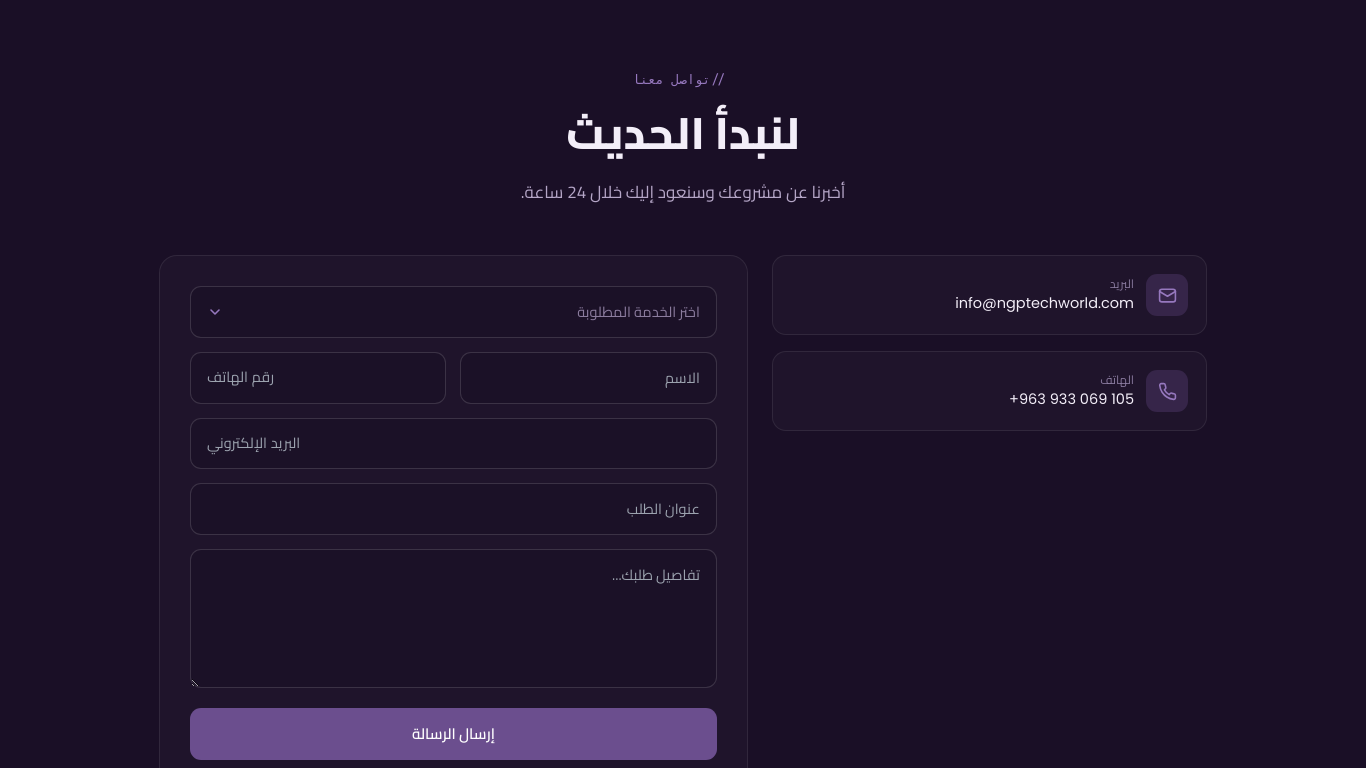
Test: sending the form › explains a validation error (422 with no field detail) and keeps what was typed
Click the button "اختر الخدمة المطلوبة" at (638, 312), box [190,286,717,338]
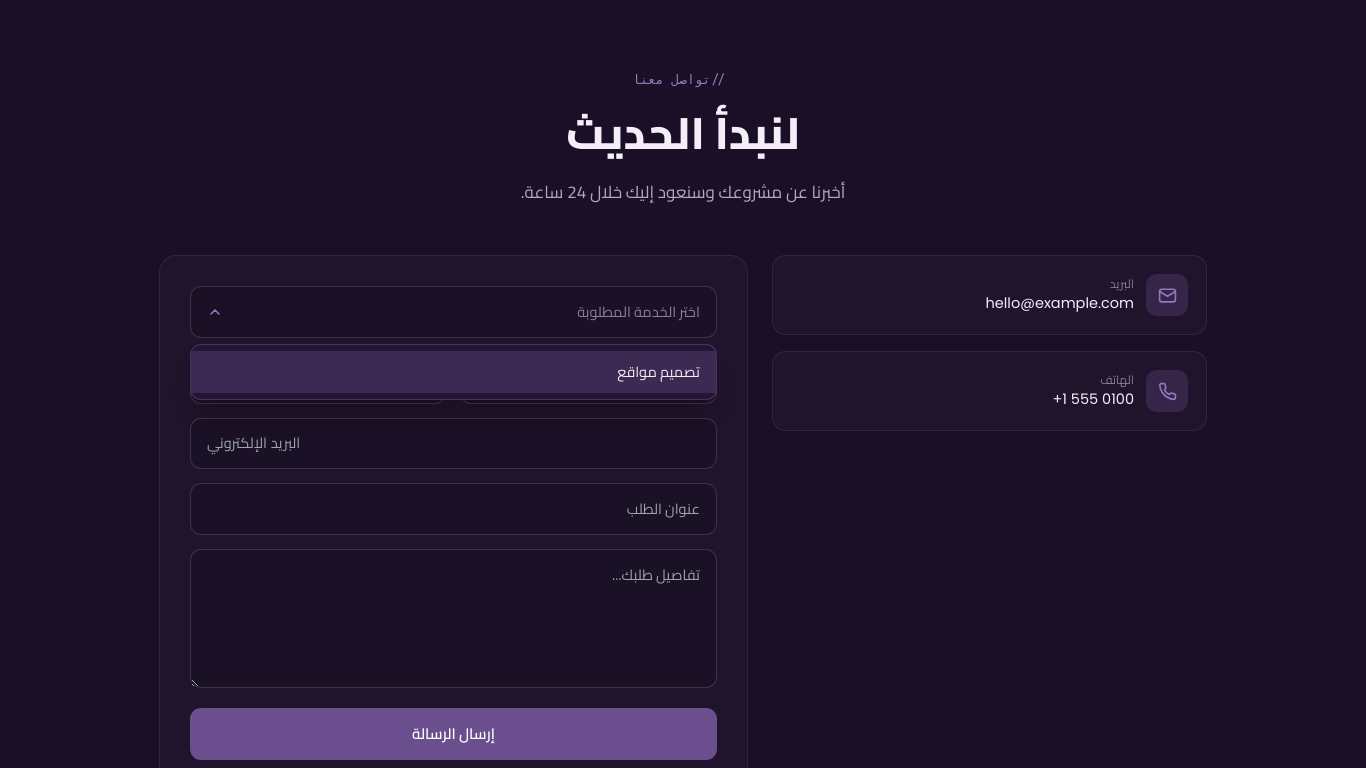
Click the option "تصميم مواقع" at (659, 371), box [191,351,716,393]
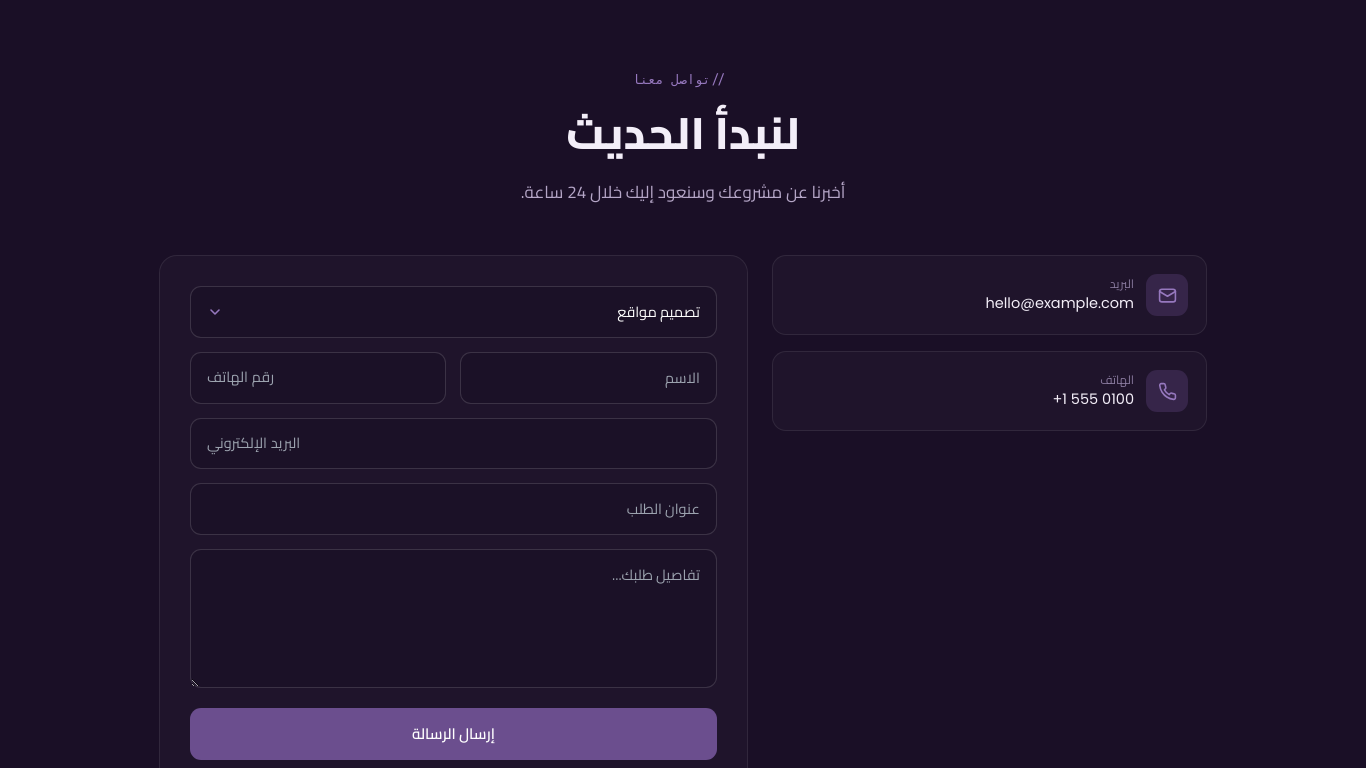
Type "Ali" into the field with placeholder "الاسم" at (589, 378), box [460,352,717,404]
Type "+963 900 000 000" into the field with placeholder "رقم الهاتف" at (318, 378), box [190,352,446,404]
Type "ali@example.com" into the field with placeholder "البريد الإلكتروني" at (453, 443), box [190,418,717,469]
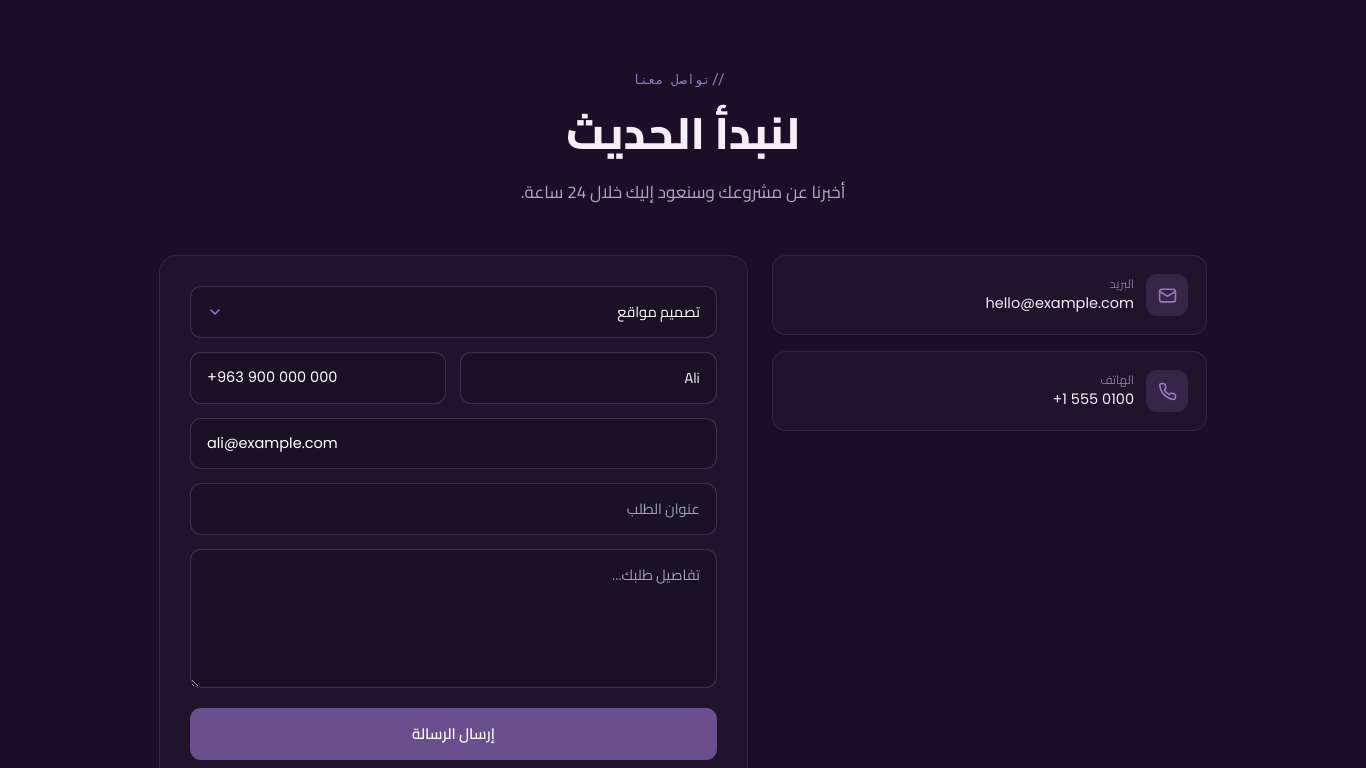
Type "App request" into the field with placeholder "عنوان الطلب" at (453, 509), box [190,483,717,535]
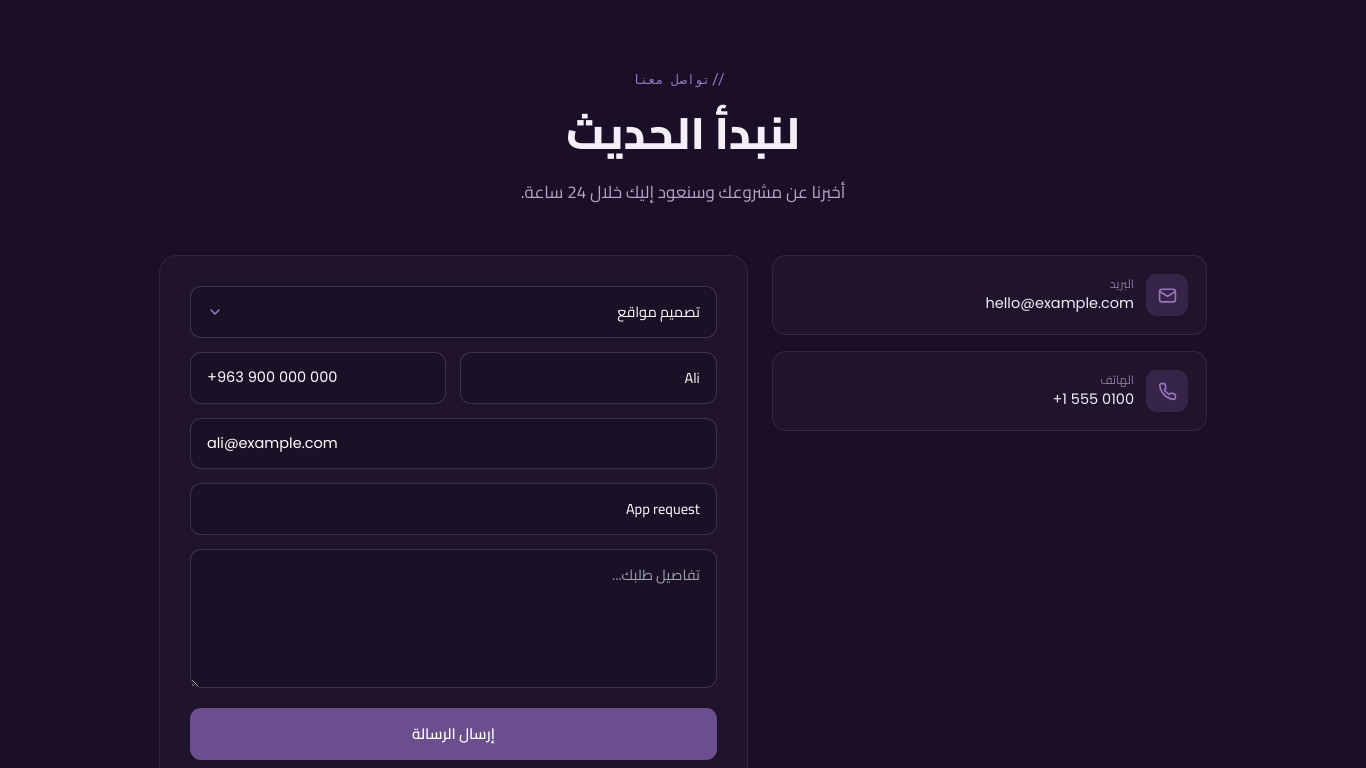
Type "Hello there, I need an app" into the text box with placeholder "تفاصيل طلبك..." at (453, 618), box [190,549,717,688]
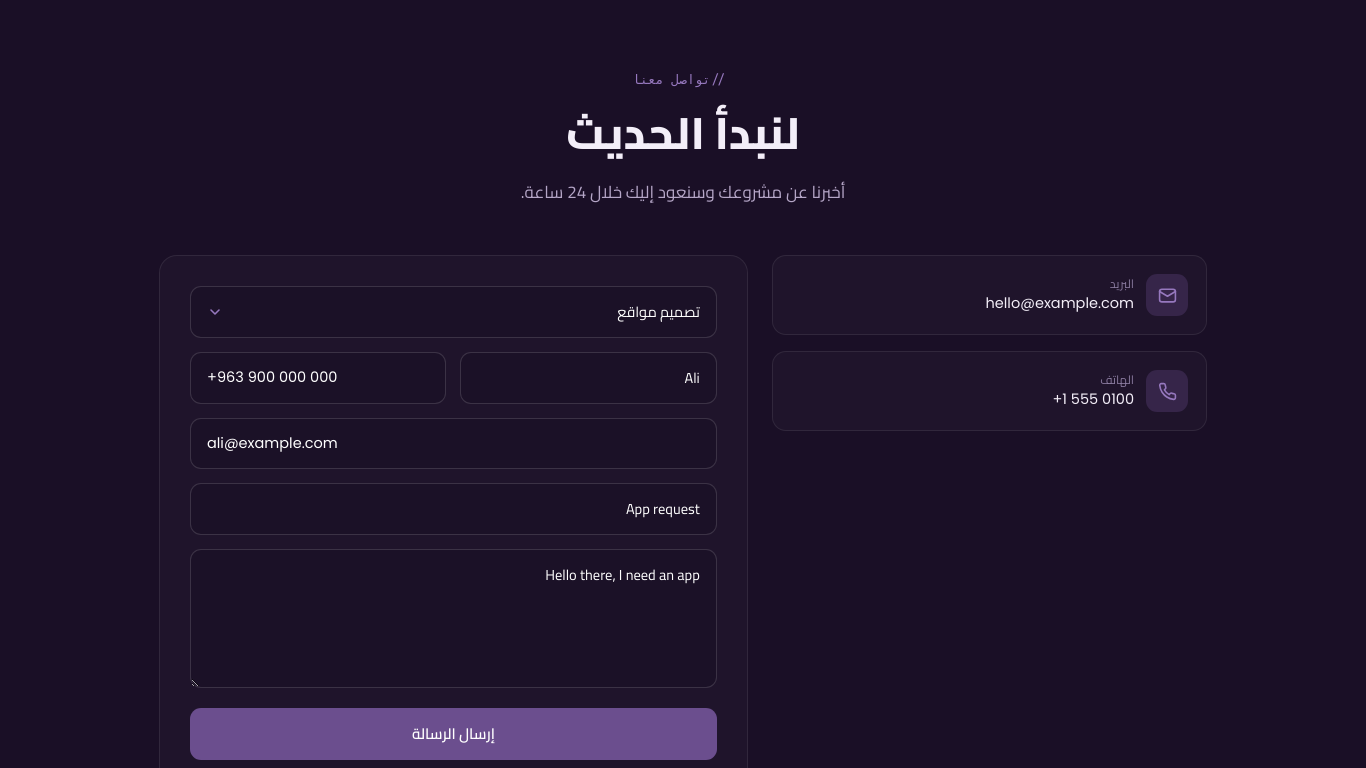
Click the button "إرسال الرسالة" at (453, 734), box [190,708,717,760]
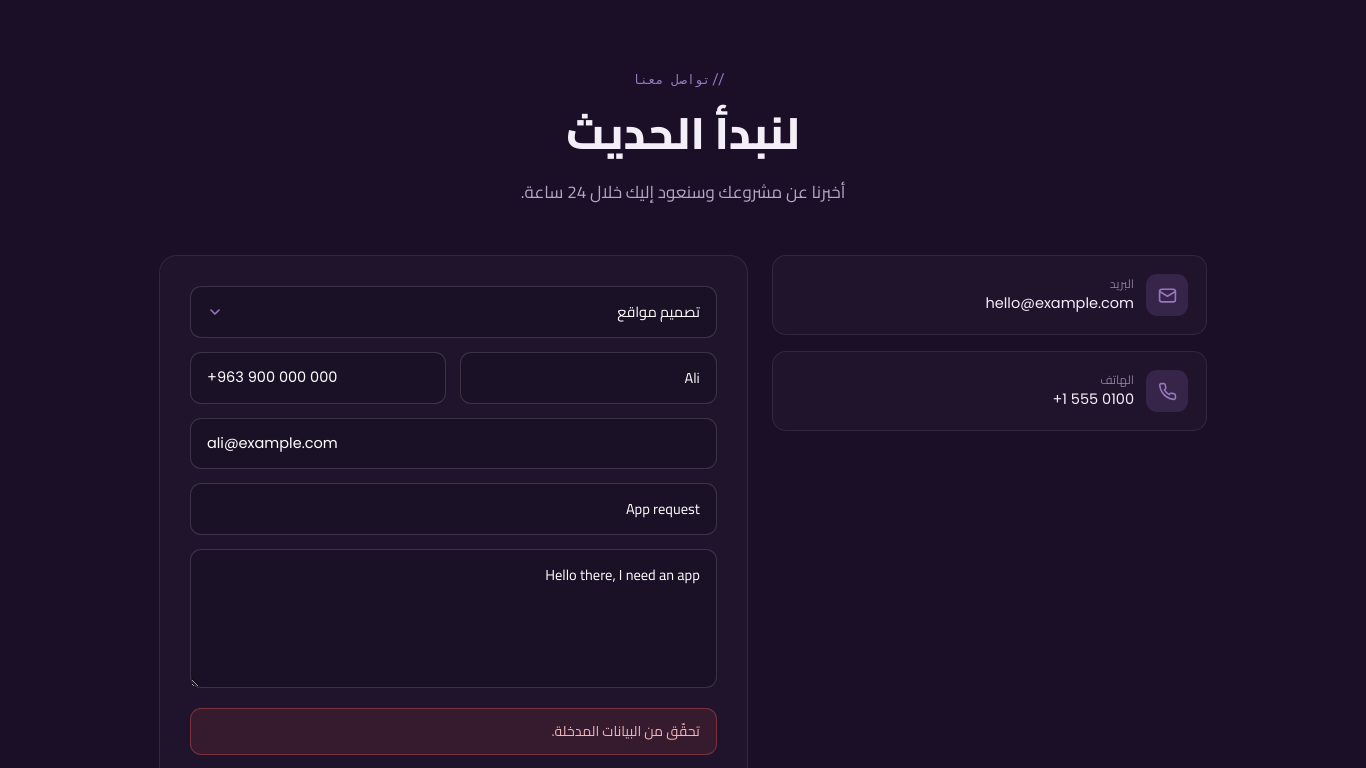
Now the message reads "تحقّق من البيانات المدخلة.", box [552,718,700,744]
